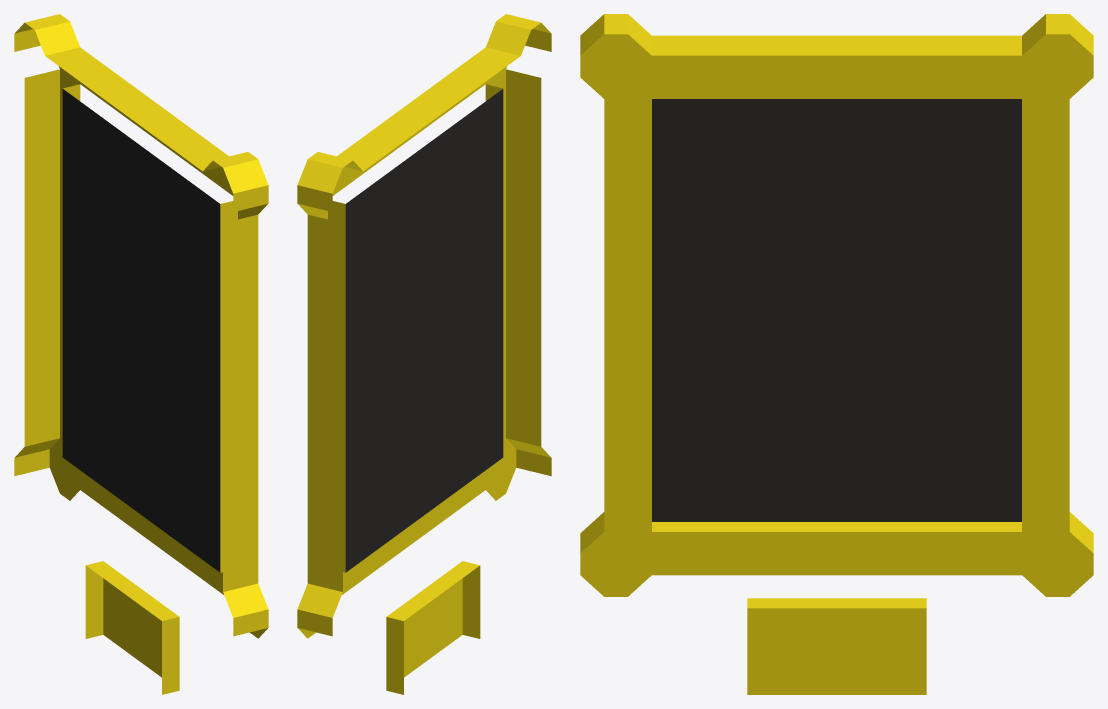
File: obj_painting_5_0.obj
The picture shows the model from 3 angles, left to right: view 1: azimuth 30°, elevation 25°; view 2: azimuth 150°, elevation 25°; view 3: azimuth 270°, elevation 25°; orthographic projection. The views are drawn at different scales.
Bounding box in the file's own units: 0.0625 × 0.9688 × 0.6719.
